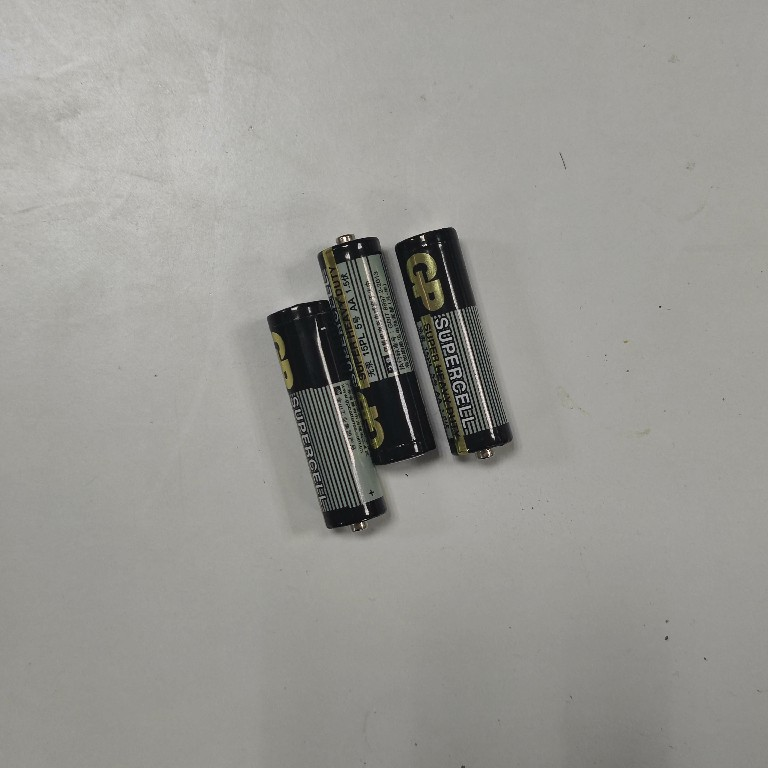charge: (266, 296, 391, 537), (393, 224, 519, 463), (316, 231, 438, 471)
